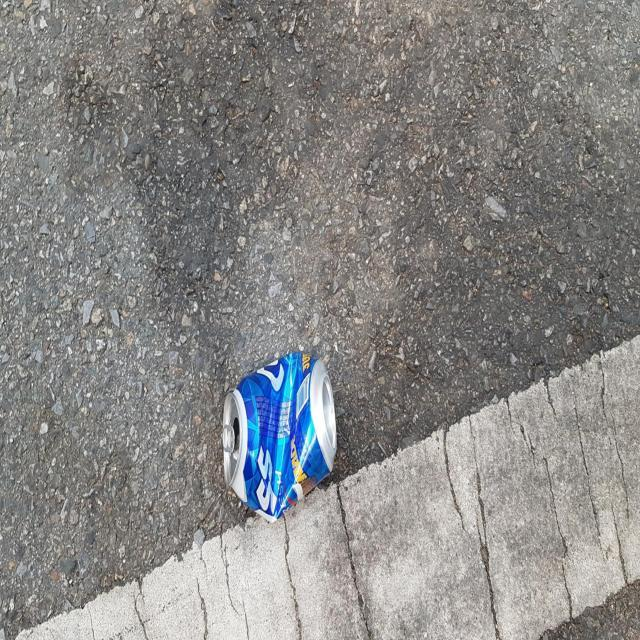can: (222, 351, 337, 521)
